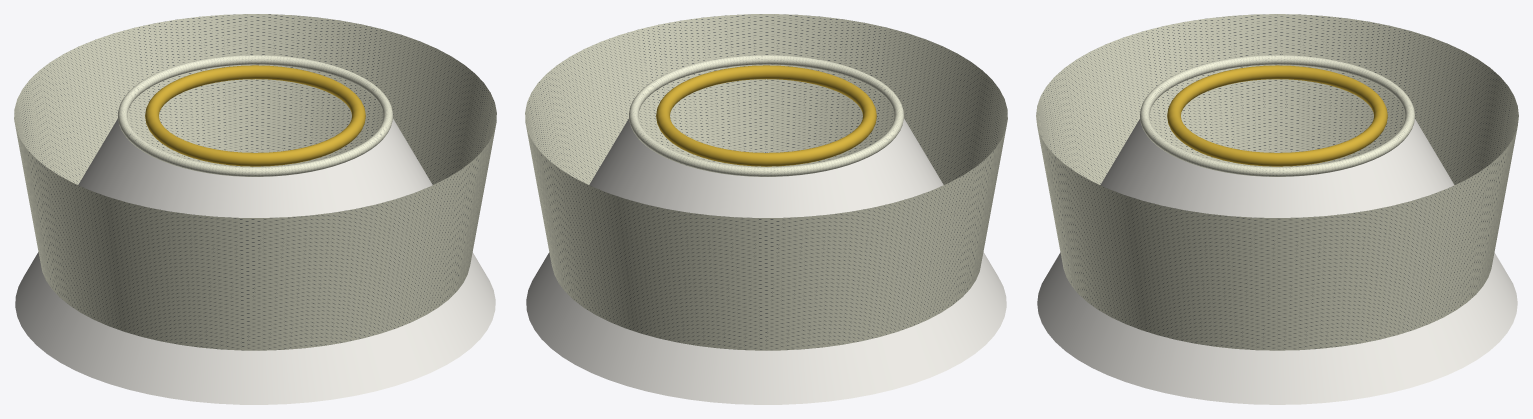
Rendered from gen-1793017936698-41l16h.glb.
The picture shows the model from 3 angles, left to right: view 1: azimuth 30°, elevation 25°; view 2: azimuth 150°, elevation 25°; view 3: azimuth 270°, elevation 25°; orthographic projection.
Visible parts, largest first — view 1: lampshade_body, inner_liner, top_ring, top_rim; view 2: lampshade_body, inner_liner, top_ring, top_rim; view 3: lampshade_body, inner_liner, top_ring, top_rim.
Part boxes in pixels (bbox=[...]): lampshade_body: bbox=[14, 14, 496, 350]; inner_liner: bbox=[15, 119, 495, 404]; top_ring: bbox=[145, 65, 365, 166]; top_rim: bbox=[118, 55, 392, 176]; lampshade_body: bbox=[525, 14, 1007, 350]; inner_liner: bbox=[526, 119, 1006, 404]; top_ring: bbox=[656, 65, 876, 166]; top_rim: bbox=[629, 55, 903, 176]; lampshade_body: bbox=[1036, 14, 1518, 350]; inner_liner: bbox=[1037, 119, 1517, 404]; top_ring: bbox=[1167, 65, 1387, 166]; top_rim: bbox=[1140, 55, 1414, 176].
Bounding box in the file's own units: 0.35 × 0.16 × 0.35.
Materials: 4 (1 with a texture image).
